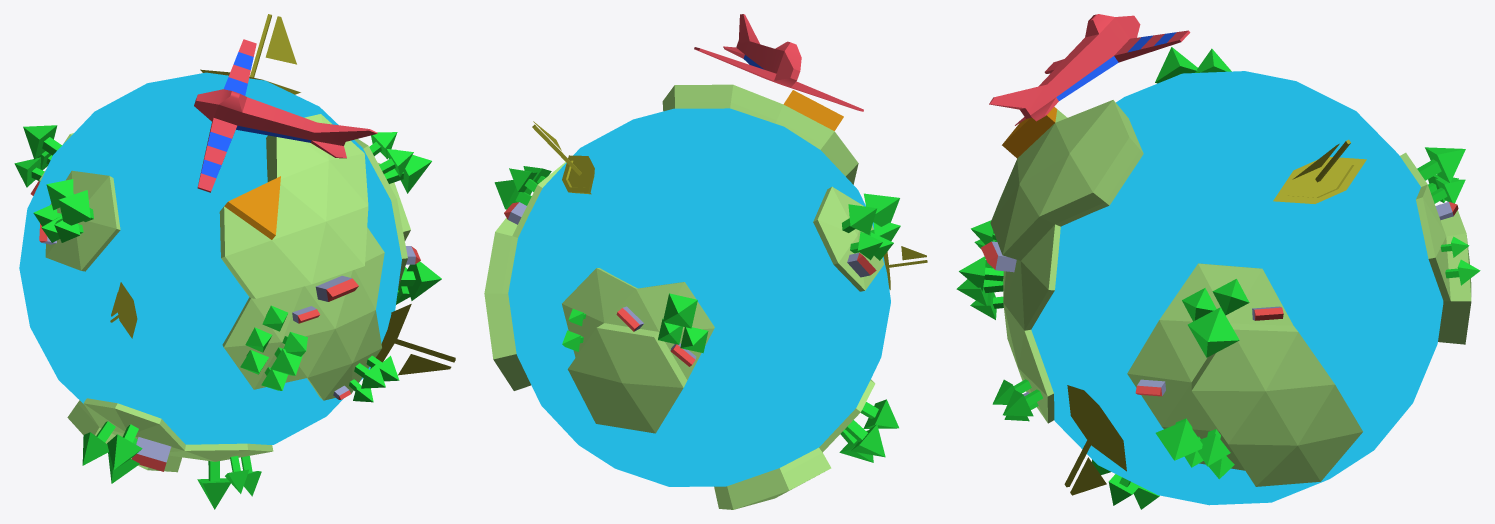
Rendered from low_poly_planet.glb.
3 renders of one model, left to right at view 1: azimuth 30°, elevation 25°; view 2: azimuth 150°, elevation 25°; view 3: azimuth 270°, elevation 25°, orthographic. The views are drawn at different scales.
Visible parts, largest first — view 1: Icosphere.001_1, Icosphere_0, Plane.003_3, Plane.045_39, Plane.002_2, Plane.027_27, Plane.032_32, Plane.001_49, Plane.011_11, Plane.017_17, Plane.036_37, Plane.010_10 (+9 smaller); view 2: Icosphere.001_1, Icosphere_0, Plane.003_3, Plane.002_2, Plane.017_17, Plane.010_10, Plane.011_11, Plane.031_31, Plane.032_32, Plane.023_23, Plane.016_16, Plane.035_35; view 3: Icosphere.001_1, Icosphere_0, Plane.003_3, Plane.045_39, Plane.002_2, Plane.023_23, Plane.027_27, Plane.017_17, Plane.021_21, Plane.032_32, Plane.004_9, Plane.026_26 (+5 smaller).
Boxes of the visible parts, bbox=[...] form: Icosphere.001_1: bbox=[19, 72, 401, 444]; Icosphere_0: bbox=[39, 114, 410, 472]; Plane.003_3: bbox=[194, 39, 377, 192]; Plane.045_39: bbox=[370, 304, 455, 375]; Plane.002_2: bbox=[200, 14, 300, 94]; Plane.027_27: bbox=[399, 261, 441, 300]; Plane.032_32: bbox=[58, 190, 93, 225]; Plane.001_49: bbox=[132, 437, 171, 471]; Plane.011_11: bbox=[107, 424, 142, 469]; Plane.017_17: bbox=[23, 125, 61, 159]; Plane.036_37: bbox=[110, 282, 137, 338]; Plane.010_10: bbox=[82, 421, 115, 465]; Icosphere.001_1: bbox=[508, 108, 890, 486]; Icosphere_0: bbox=[484, 84, 883, 509]; Plane.003_3: bbox=[694, 14, 863, 111]; Plane.002_2: bbox=[532, 121, 594, 194]; Plane.017_17: bbox=[663, 293, 697, 328]; Plane.010_10: bbox=[845, 420, 885, 457]; Plane.011_11: bbox=[860, 399, 898, 428]; Plane.031_31: bbox=[842, 204, 876, 234]; Plane.032_32: bbox=[864, 193, 899, 226]; Plane.023_23: bbox=[494, 180, 531, 209]; Plane.016_16: bbox=[680, 327, 708, 353]; Plane.035_35: bbox=[850, 231, 882, 260]; Icosphere.001_1: bbox=[1031, 71, 1443, 505]; Icosphere_0: bbox=[990, 100, 1471, 486]; Plane.003_3: bbox=[989, 14, 1190, 125]; Plane.045_39: bbox=[1064, 385, 1126, 495]; Plane.002_2: bbox=[1273, 139, 1366, 203]; Plane.023_23: bbox=[1187, 307, 1239, 357]; Plane.027_27: bbox=[1155, 418, 1202, 460]; Plane.017_17: bbox=[1417, 147, 1465, 182]; Plane.021_21: bbox=[1212, 279, 1249, 315]; Plane.032_32: bbox=[1155, 47, 1197, 83]; Plane.004_9: bbox=[959, 256, 1003, 291]; Plane.026_26: bbox=[1197, 429, 1230, 466].
Bounding box in the file's own units: 2.54 × 2.72 × 2.55.
